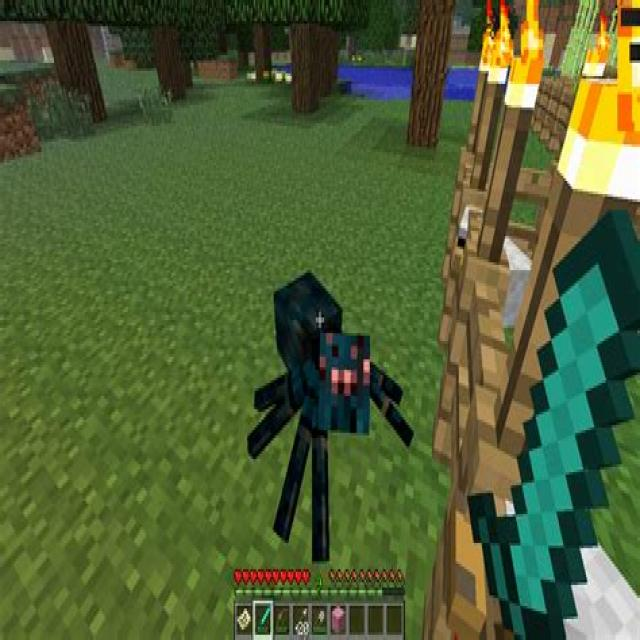Cave Spider: (248, 264, 416, 565)
